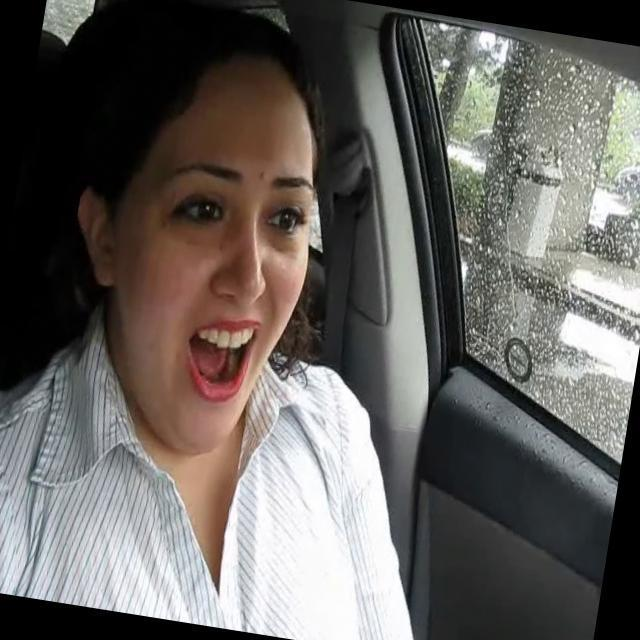open-mouth: (186, 317, 258, 400)
